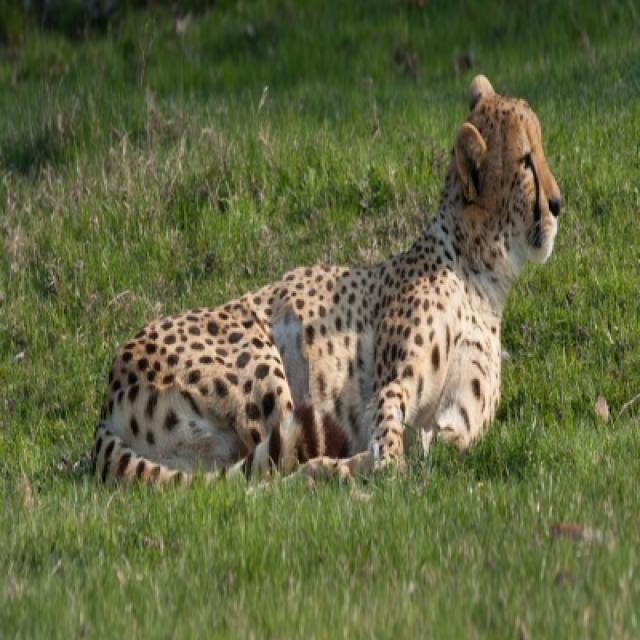Cheetah: (91, 77, 565, 486)
